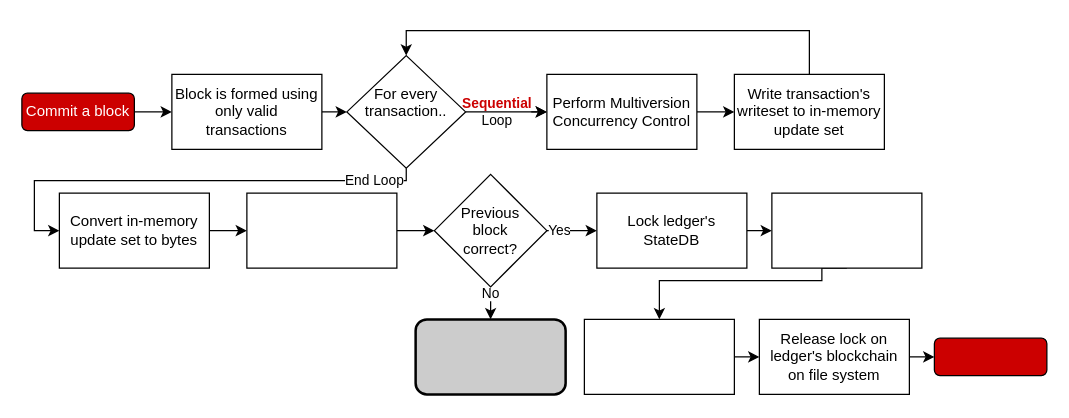
Image size: 1069x418. Some labels were removed from this diagram. The shapes that lost their labels are listed below. From the top down, each one's centre as x and y in pixels, then its label:
(x=321, y=230): Lock ledger's blockchain on file system
(x=846, y=230): Send in-memory update set as atomic batch operation to StateDB
(x=490, y=356): End, drop all invalid blocks and pull new blocks from peers / ordering service
(x=658, y=356): Release lock on ledger's StateDB
(x=990, y=356): End
